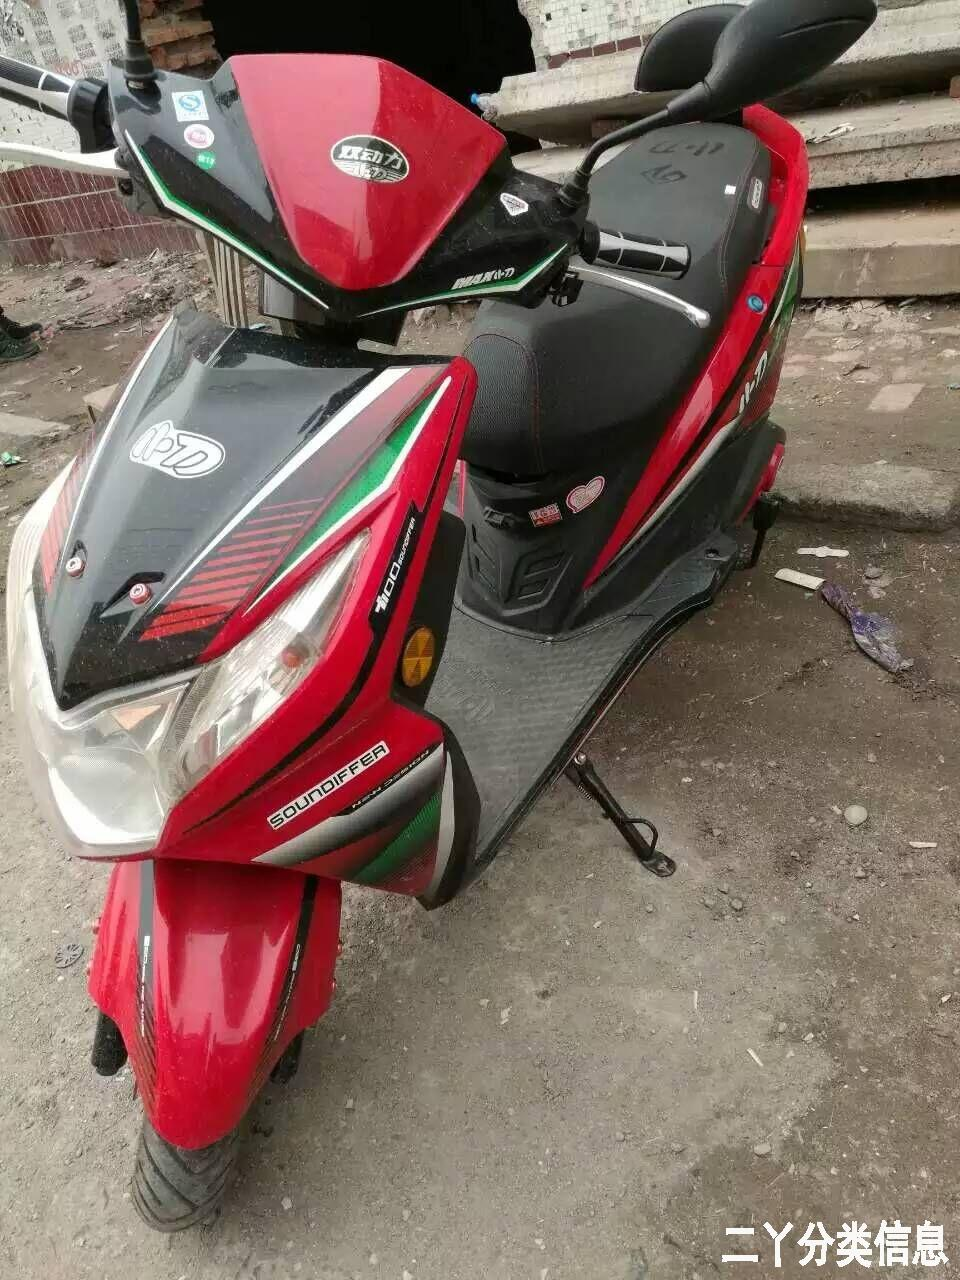电动车: (3, 1, 874, 1237)
